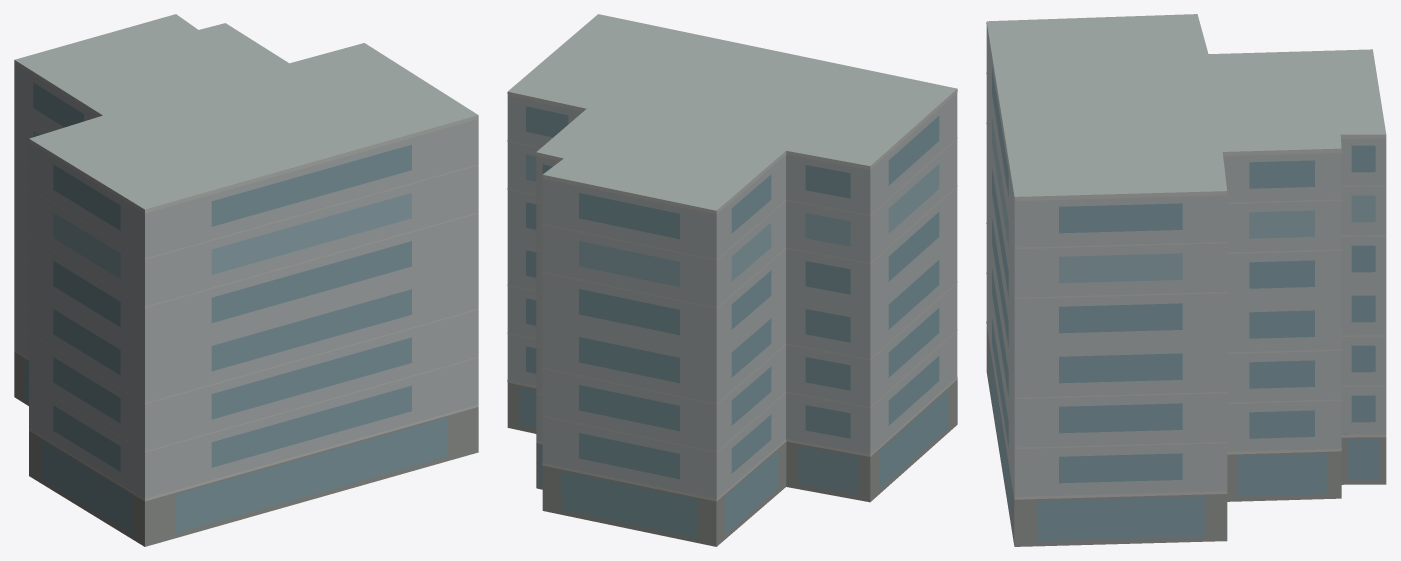
The model's file is survey-upis-32987133.glb.
The picture shows the model from 3 angles, left to right: view 1: azimuth 30°, elevation 25°; view 2: azimuth 150°, elevation 25°; view 3: azimuth 270°, elevation 25°; orthographic projection. The views are drawn at different scales.
Visible parts, largest first — view 1: survey-upis-32987133.tmp; view 2: survey-upis-32987133.tmp; view 3: survey-upis-32987133.tmp.
Part boxes in pixels (<box>): survey-upis-32987133.tmp: <box>14,14,478,546</box>; survey-upis-32987133.tmp: <box>507,14,957,546</box>; survey-upis-32987133.tmp: <box>986,14,1386,546</box>.
Bounding box in the file's own units: 23.23 × 20.7 × 21.45.
